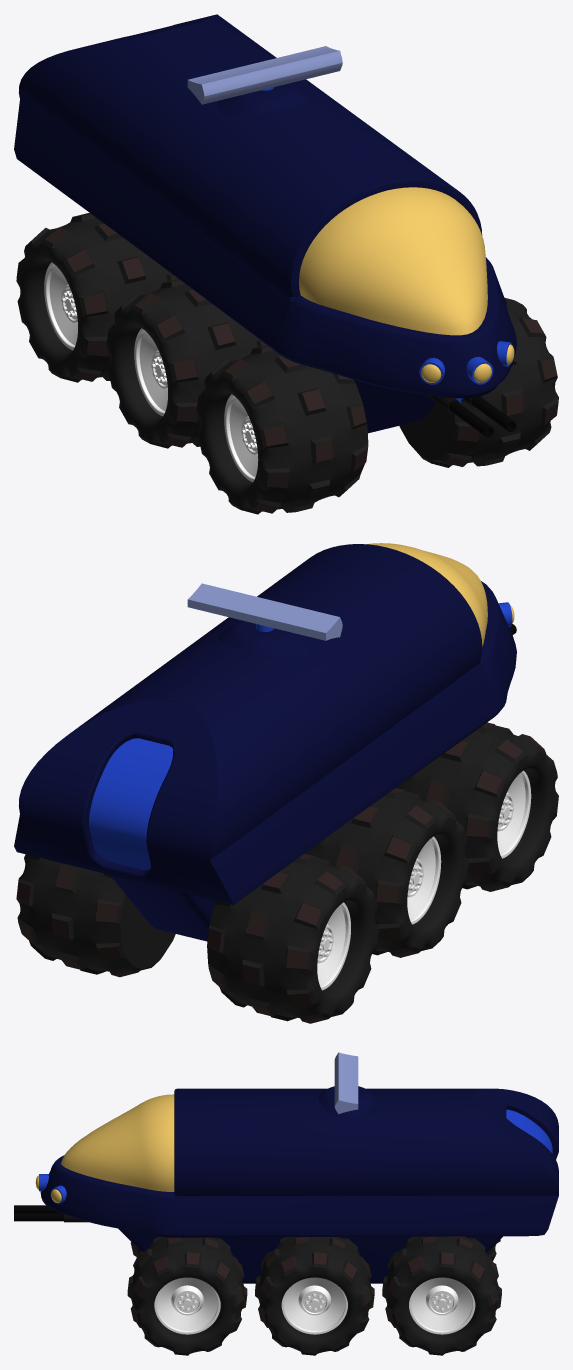
The model's file is Terrain Vehicle.fbx.
The picture shows the model from 3 angles, top to bottom: view 1: azimuth 30°, elevation 25°; view 2: azimuth 150°, elevation 25°; view 3: azimuth 270°, elevation 25°; orthographic projection. The views are drawn at different scales.
Visible parts, largest first — view 1: Terrain Vehicle, Wheel 1, Wheel 3, Wheel 2, Wheel 4, Radar, Laser; view 2: Terrain Vehicle, Wheel 3, Wheel 2, Wheel 1, Wheel 6, Radar; view 3: Terrain Vehicle, Wheel 6, Wheel 4, Wheel 5, Radar, Laser.
Boxes of the visible parts, x1=… form: Terrain Vehicle: x1=14, y1=14, x2=516, y2=433; Wheel 1: x1=196, y1=345, x2=368, y2=514; Wheel 3: x1=16, y1=213, x2=178, y2=382; Wheel 2: x1=106, y1=279, x2=266, y2=448; Wheel 4: x1=399, y1=297, x2=558, y2=467; Radar: x1=187, y1=46, x2=342, y2=104; Laser: x1=427, y1=395, x2=516, y2=437; Terrain Vehicle: x1=14, y1=543, x2=516, y2=941; Wheel 3: x1=207, y1=853, x2=378, y2=1023; Wheel 2: x1=305, y1=788, x2=468, y2=957; Wheel 1: x1=396, y1=722, x2=558, y2=891; Wheel 6: x1=16, y1=854, x2=175, y2=977; Radar: x1=187, y1=583, x2=342, y2=640; Terrain Vehicle: x1=35, y1=1086, x2=558, y2=1283; Wheel 6: x1=382, y1=1236, x2=501, y2=1355; Wheel 4: x1=127, y1=1236, x2=247, y2=1355; Wheel 5: x1=255, y1=1237, x2=374, y2=1355; Radar: x1=334, y1=1052, x2=358, y2=1114; Laser: x1=14, y1=1205, x2=88, y2=1222.
Bounding box in the file's own units: 8.5 × 9.26 × 19.27.
